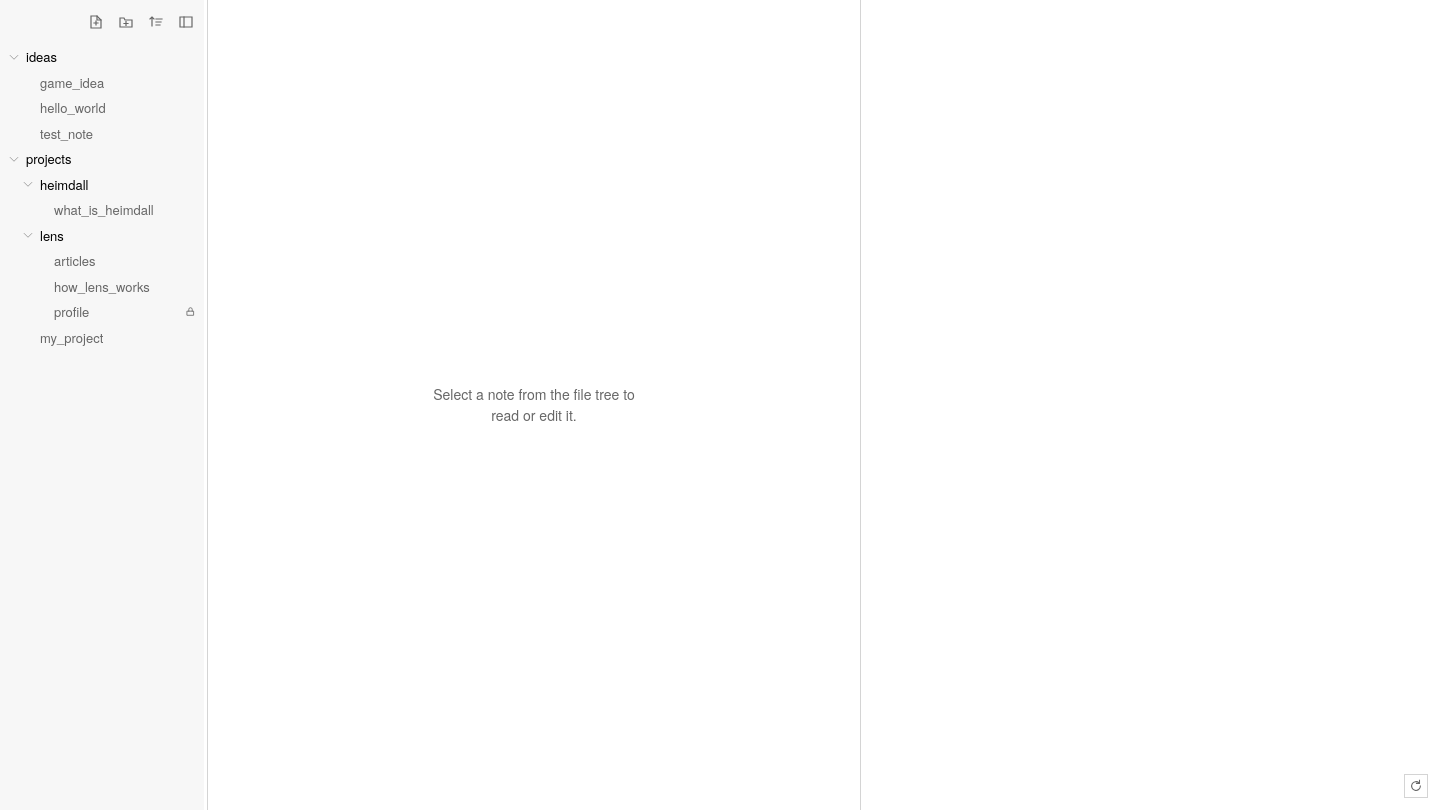
renaming and deleting › names linking notes that are locked, before and after the rename
Right-click the text "how_lens_works" at (102, 286), box [54,276,150,296]
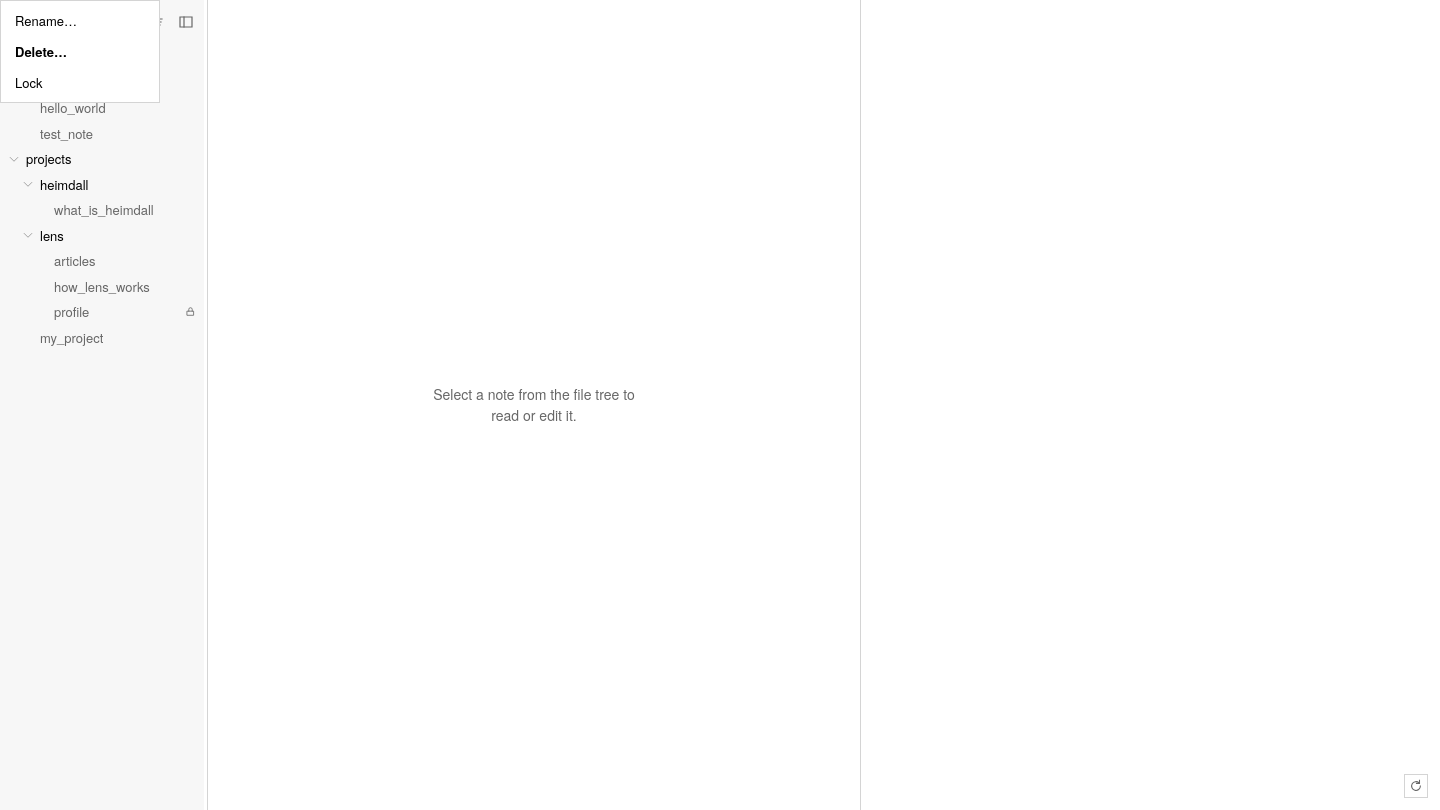
Click the menu item "Rename…" at (80, 20), box [1,5,159,36]
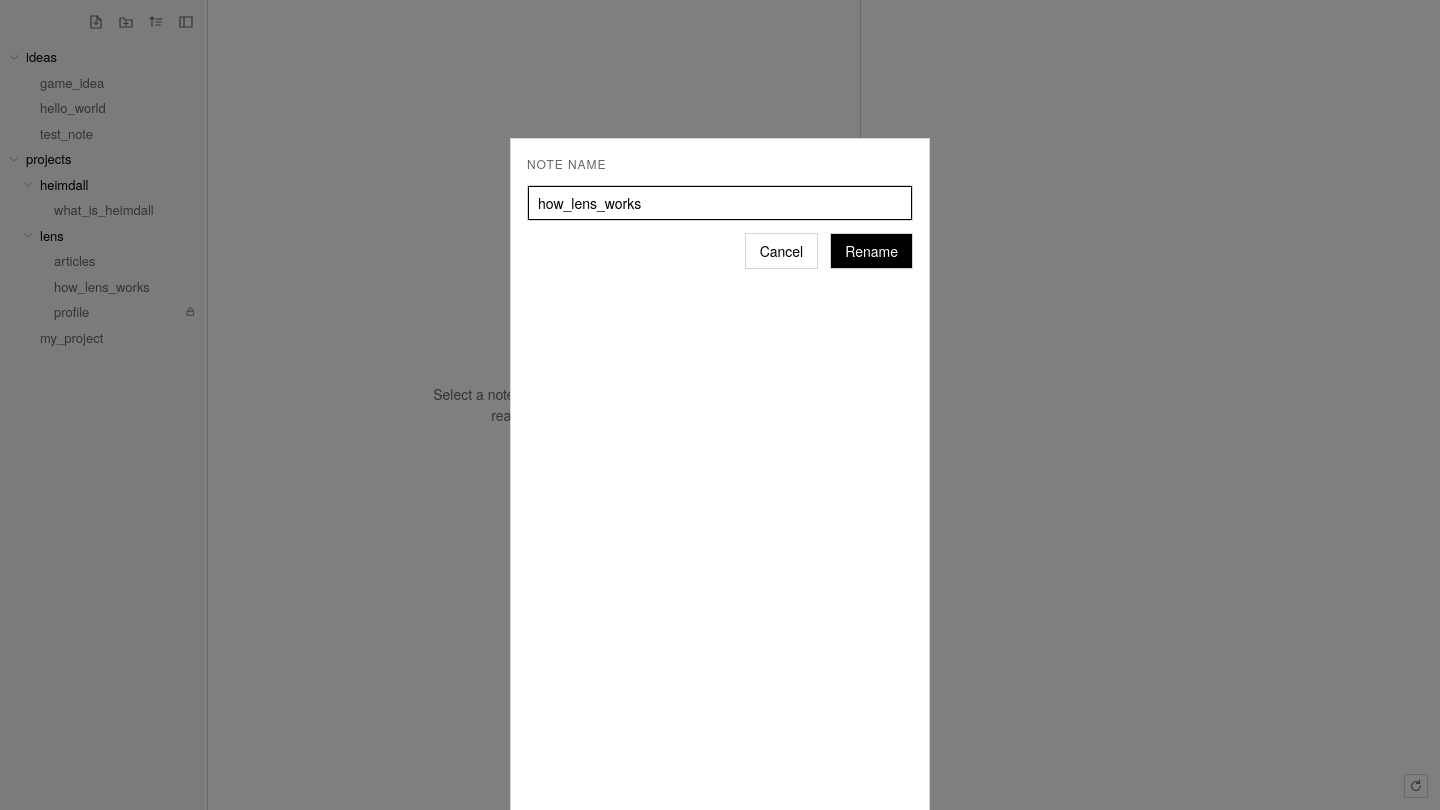
Replace the text in the field labelled "Note name" with "how_lens_work" at (720, 203), box [527,185,913,221]
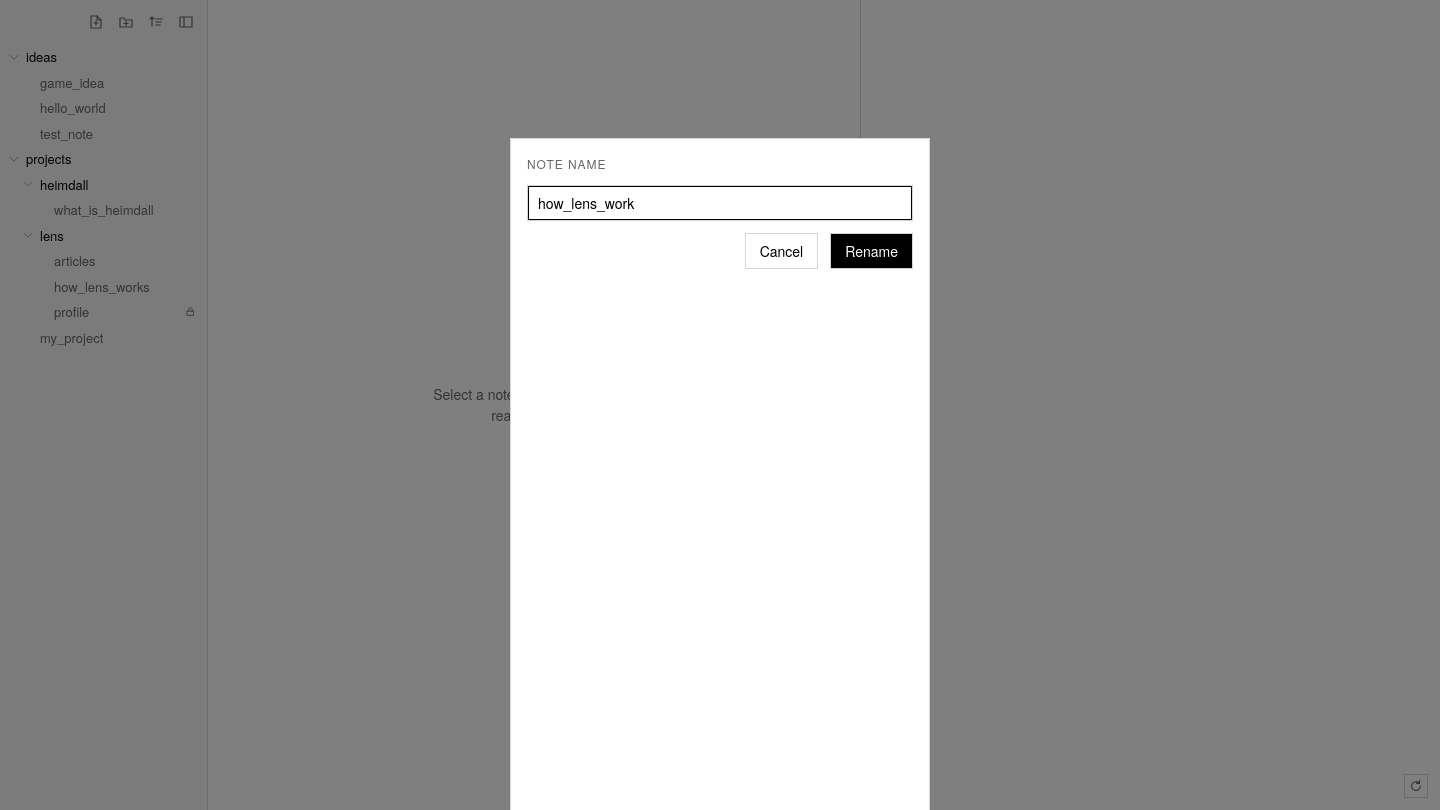
Click the button "Rename" at (872, 251), box [830,233,913,269]
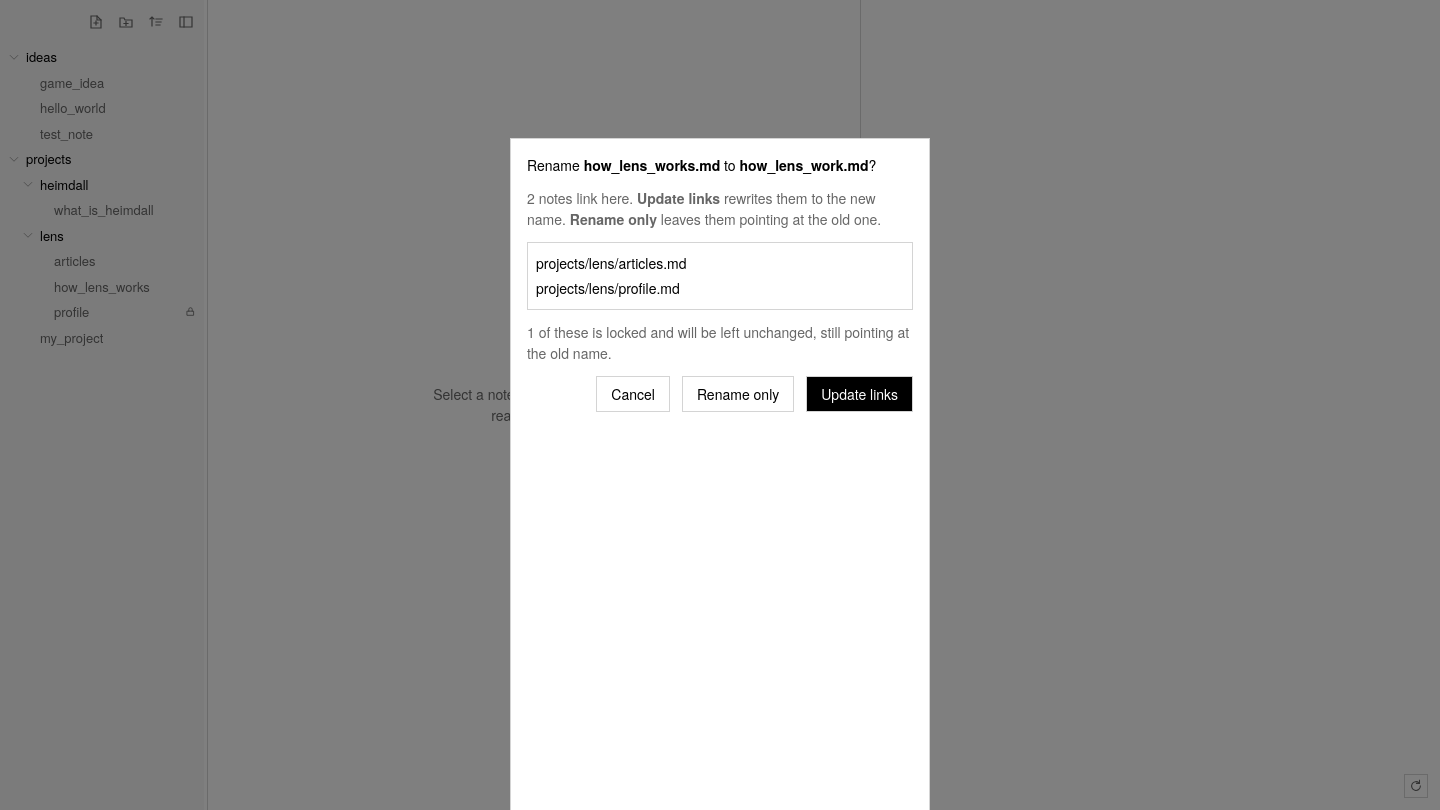
Expected: the text "1 of these is locked and will be left" is shown, [527,322,913,364]
Click the button "Update links" at (860, 394), box [806,376,913,412]
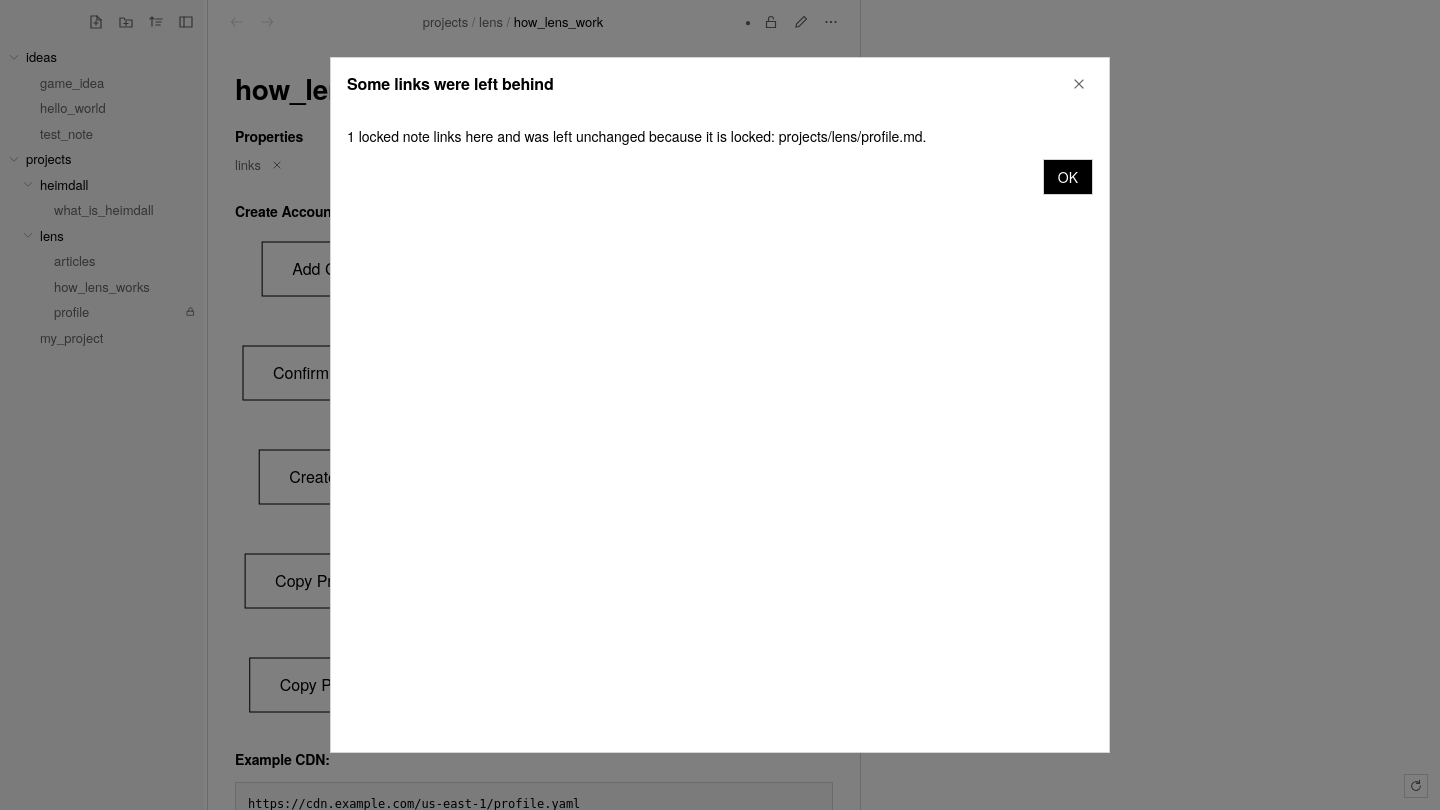
Expected: the text "profile.md" is shown, [347,126,926,146]
